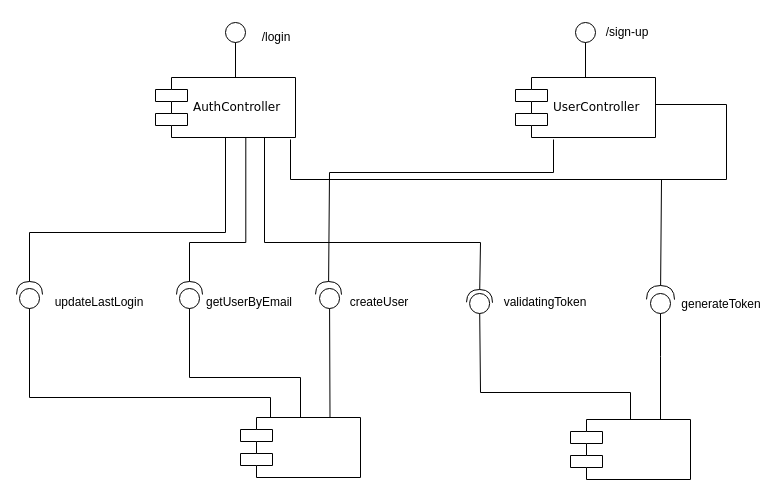
This 778x497 diagram has some shape labels left out. Here are the shapes that lost their labels. From the top down, the centre of each, then its label:
At point (300, 447): "UserService".
At point (630, 449): "JwtUtil".
